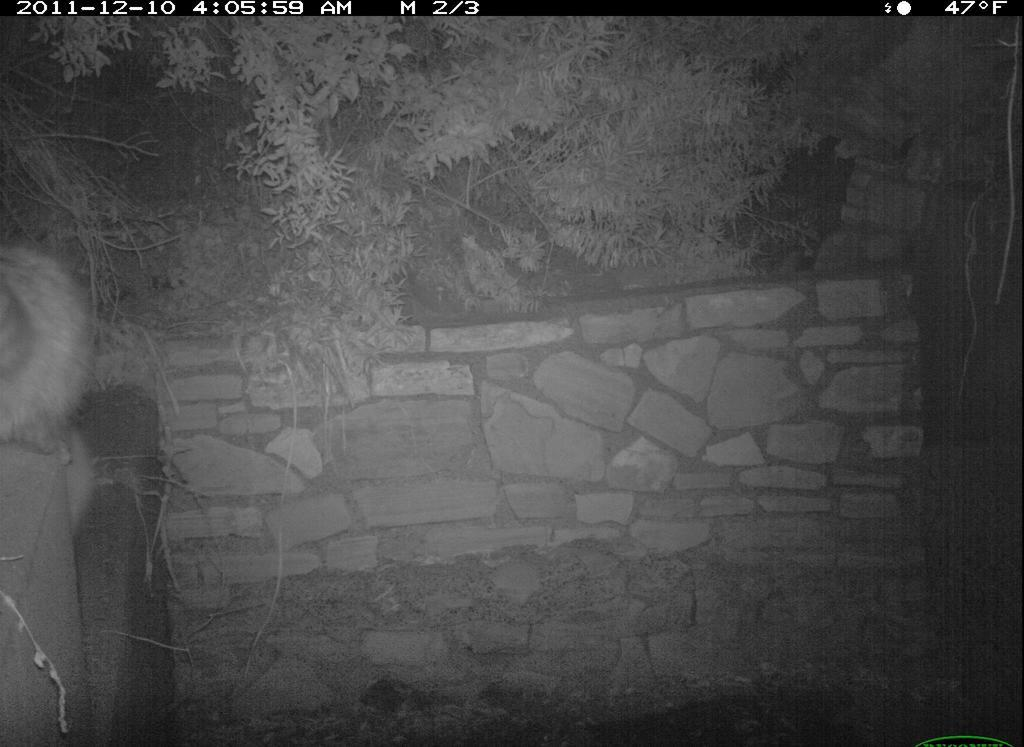raccoon: (3, 235, 102, 518)
